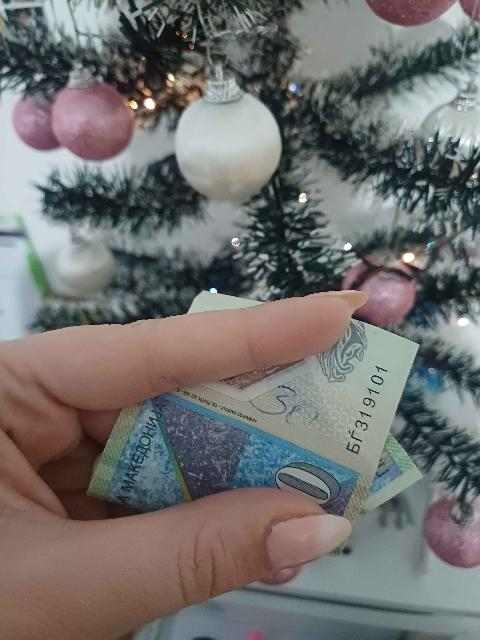50_note: (87, 318, 426, 521)
